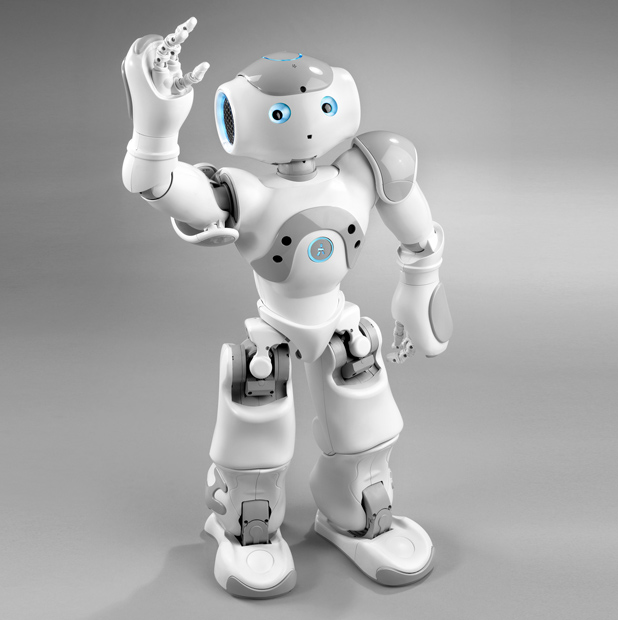nao: (91, 11, 496, 614)
